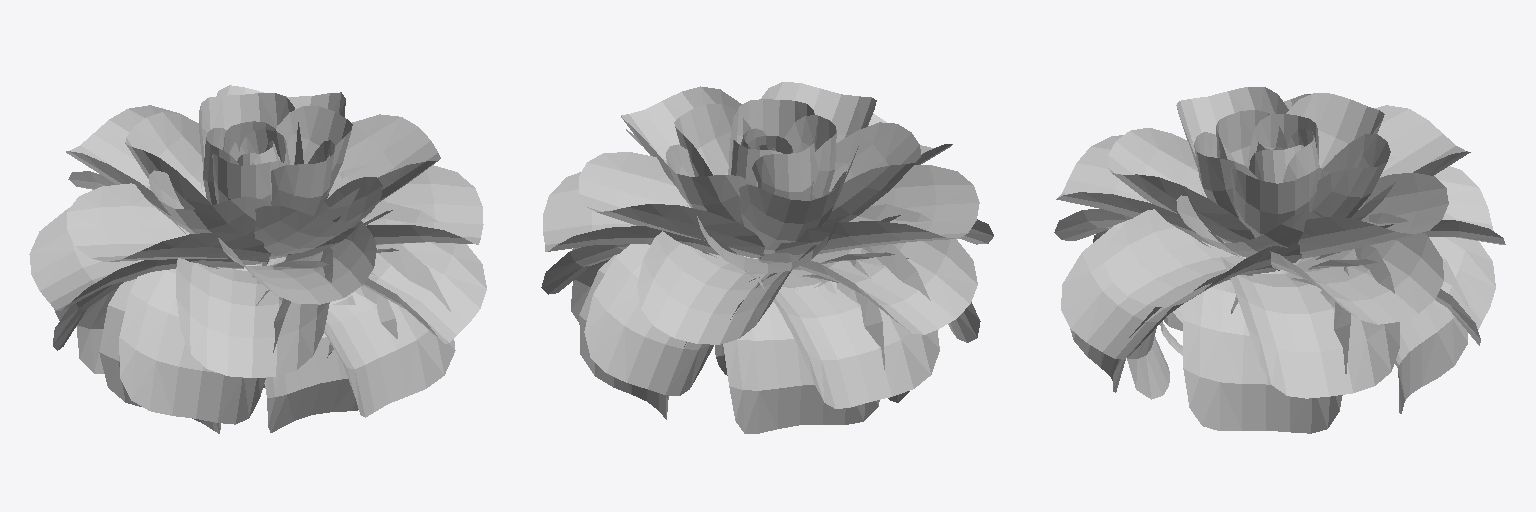
Rendered from FlowerTopModel_03_seq_0056.obj.
The picture shows the model from 3 angles: view 1: azimuth 30°, elevation 25°; view 2: azimuth 150°, elevation 25°; view 3: azimuth 270°, elevation 25°; orthographic projection.
Visible parts, largest first — view 1: FlowerTopModel_03; view 2: FlowerTopModel_03; view 3: FlowerTopModel_03.
Part boxes in pixels (bbox=[...]): FlowerTopModel_03: bbox=[29, 85, 486, 433]; FlowerTopModel_03: bbox=[541, 82, 993, 433]; FlowerTopModel_03: bbox=[1054, 87, 1505, 433].
Bounding box in the file's own units: 937 × 549 × 924.